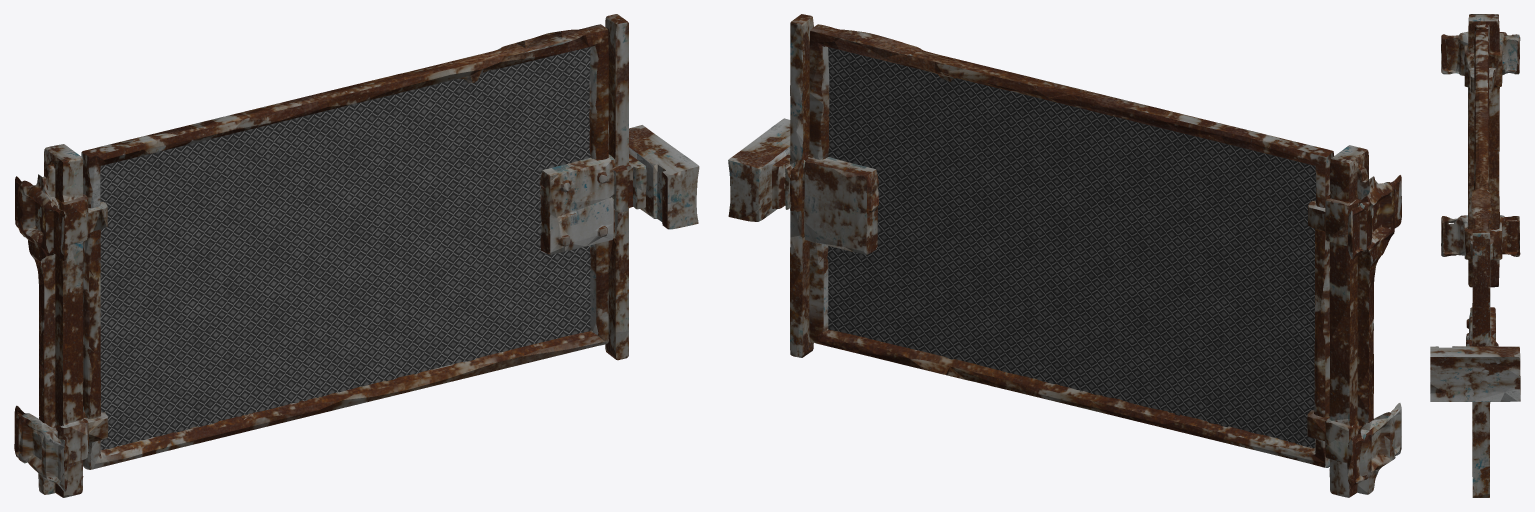
The model's file is Fence Gate.fbx.
The picture shows the model from 3 angles, left to right: view 1: azimuth 30°, elevation 25°; view 2: azimuth 150°, elevation 25°; view 3: azimuth 270°, elevation 25°; orthographic projection. The views are drawn at different scales.
Parts seen in each view (by area): view 1: model; view 2: model; view 3: model.
Part boxes in pixels (<box>): model: <box>14,14,699,497</box>; model: <box>728,14,1401,497</box>; model: <box>1430,14,1520,497</box>.
Size of the model in its own units: 72.27 by 36.78 by 11.3.
2 materials, 2 textured.
